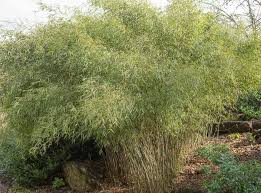bamboo: (4, 29, 192, 184), (45, 4, 252, 115)
